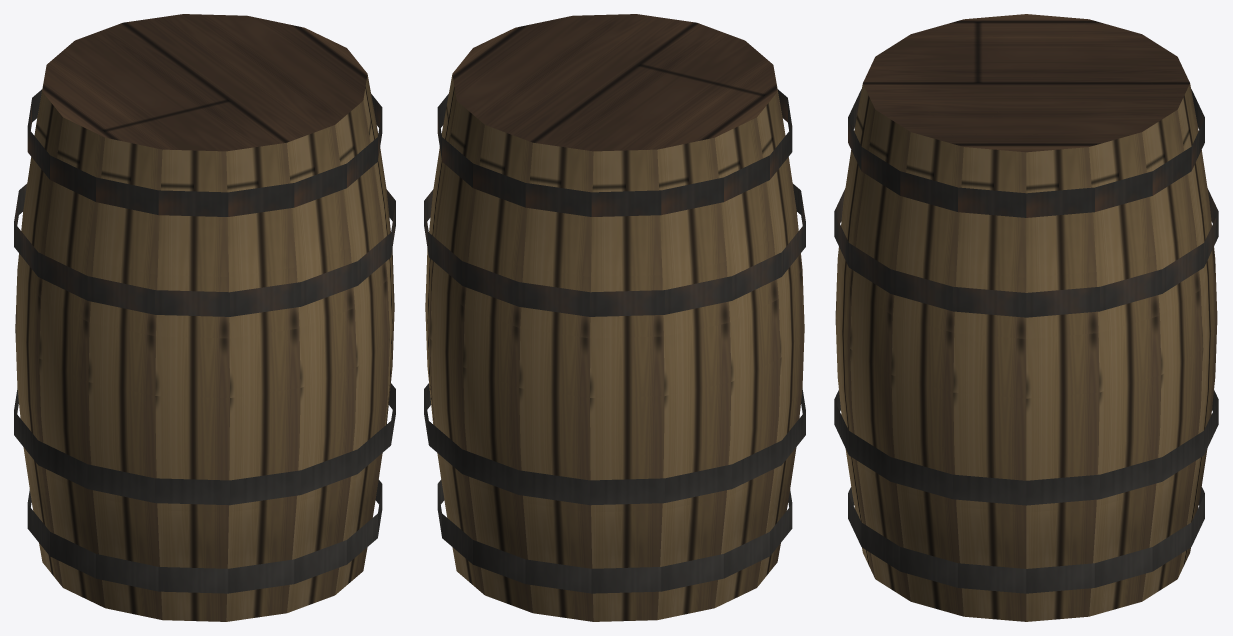
Rendered from barrel.gltf.
The picture shows the model from 3 angles, left to right: view 1: azimuth 30°, elevation 25°; view 2: azimuth 150°, elevation 25°; view 3: azimuth 270°, elevation 25°; orthographic projection.
Visible parts, largest first — view 1: barrel_mesh; view 2: barrel_mesh; view 3: barrel_mesh.
Boxes of the visible parts, box(x1,y1,x2,y2) form: barrel_mesh: box(14, 14, 395, 621); barrel_mesh: box(424, 14, 805, 621); barrel_mesh: box(834, 14, 1218, 621).
Size of what is drawn, in the model's own units: 0.7049 by 0.95 by 0.7049.
3 materials, 3 textured.
